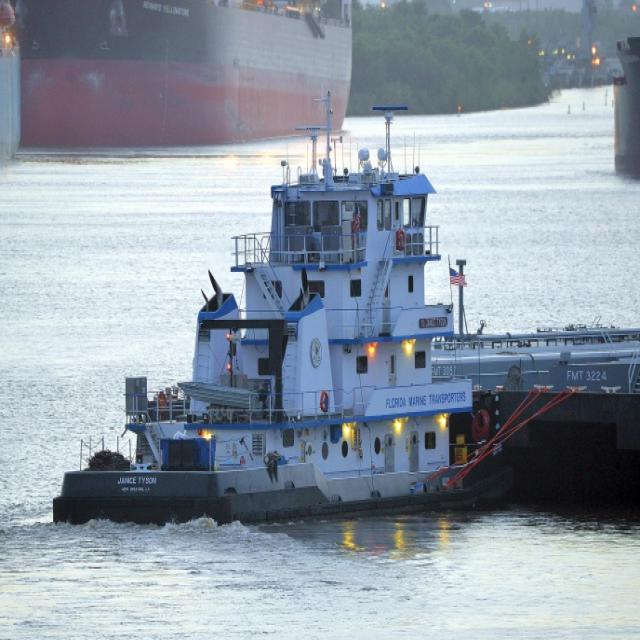tugboat: (45, 103, 538, 534)
